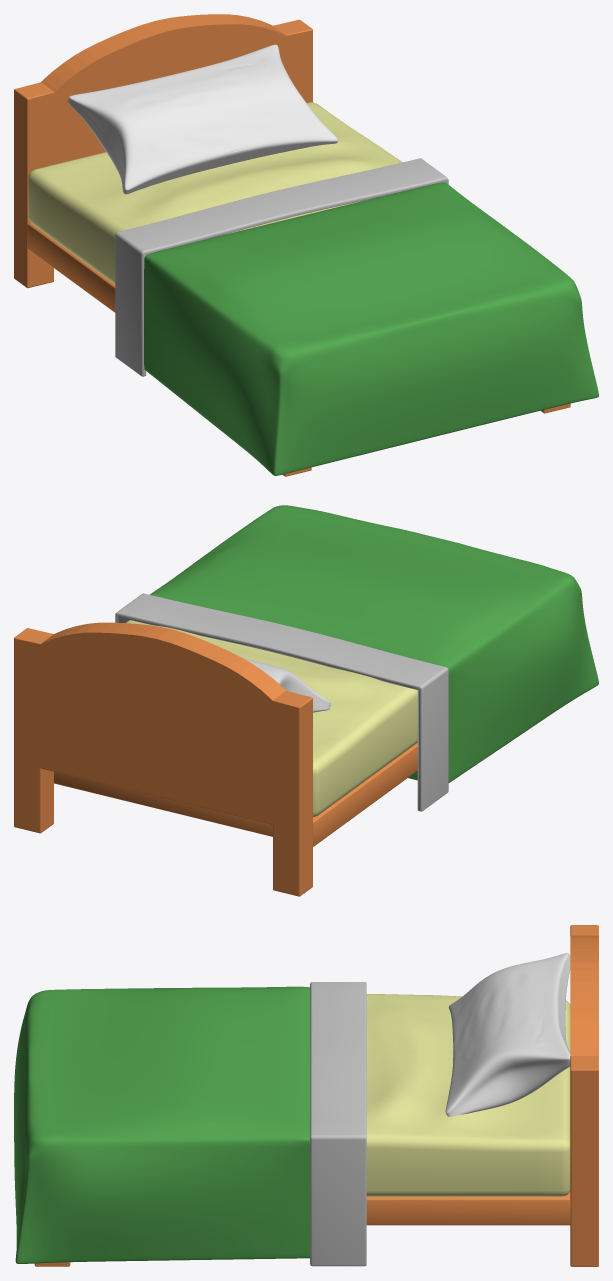
Rendered from Caminha.fbx.
3 renders of one model, top to bottom at view 1: azimuth 30°, elevation 25°; view 2: azimuth 150°, elevation 25°; view 3: azimuth 270°, elevation 25°, orthographic. The views are drawn at different scales.
Parts seen in each view (by area): view 1: Cube.100, Cube.106, Cube.083, Cube.084, Cube.099, Cube.082; view 2: Cube.100, Cube.083, Cube.099, Cube.084, Cube.082, Cube.106; view 3: Cube.100, Cube.084, Cube.099, Cube.106, Cube.083, Cube.082.
Part boxes in pixels (left/top/right/bottom): Cube.100: left=144, top=182, right=598, bottom=475; Cube.106: left=68, top=44, right=337, bottom=194; Cube.083: left=14, top=14, right=312, bottom=288; Cube.084: left=28, top=102, right=402, bottom=284; Cube.099: left=115, top=158, right=448, bottom=376; Cube.082: left=27, top=222, right=115, bottom=312; Cube.100: left=150, top=505, right=598, bottom=782; Cube.083: left=14, top=622, right=312, bottom=896; Cube.099: left=115, top=593, right=448, bottom=811; Cube.084: left=126, top=620, right=417, bottom=817; Cube.082: left=54, top=743, right=417, bottom=846; Cube.106: left=243, top=658, right=330, bottom=712; Cube.100: left=14, top=986, right=309, bottom=1263; Cube.084: left=366, top=994, right=570, bottom=1196; Cube.099: left=310, top=982, right=366, bottom=1266; Cube.106: left=445, top=953, right=570, bottom=1116; Cube.083: left=570, top=925, right=598, bottom=1266; Cube.082: left=366, top=1191, right=570, bottom=1225.
Bounding box in the file's own units: 1248 × 812 × 1854.
